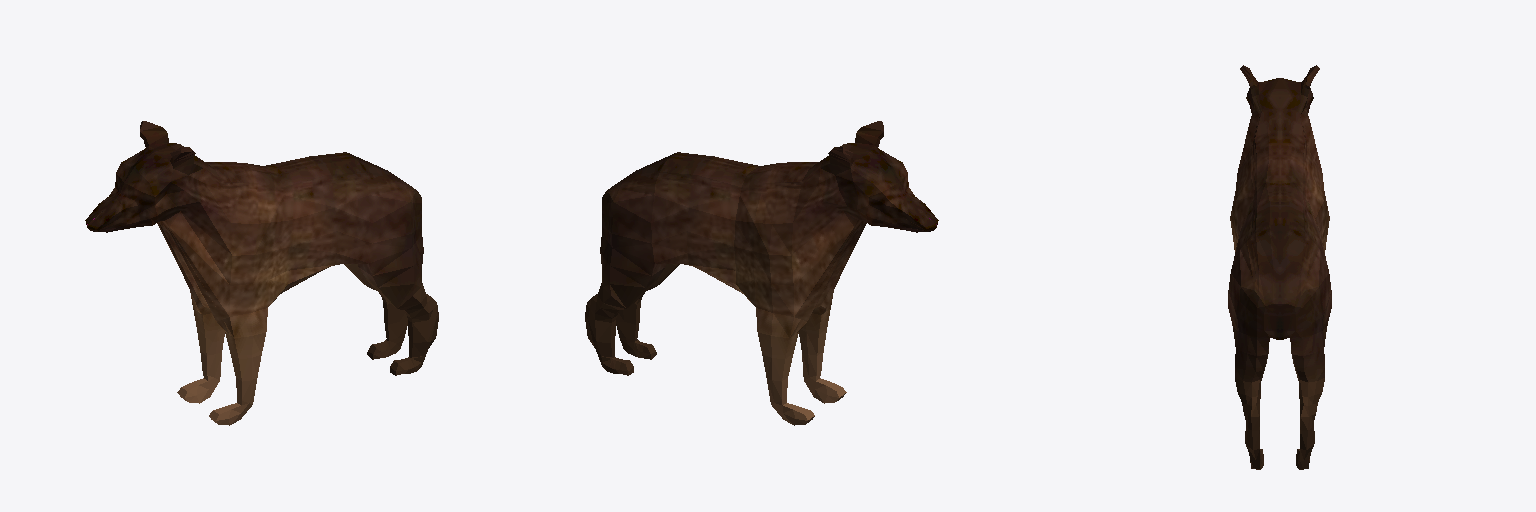
The picture shows the model from 3 angles: view 1: azimuth 30°, elevation 25°; view 2: azimuth 150°, elevation 25°; view 3: azimuth 270°, elevation 25°; orthographic projection.
Parts seen in each view (by area): view 1: Cube_Cube_001; view 2: Cube_Cube_001; view 3: Cube_Cube_001.
Part boxes in pixels (x1,y1,x2,y2): Cube_Cube_001: (85,121,438,425); Cube_Cube_001: (585,121,938,425); Cube_Cube_001: (1228,65,1331,469).
Bounding box in the file's own units: 7.21 × 5.9 × 1.91.
Materials: 2 (1 with a texture image).